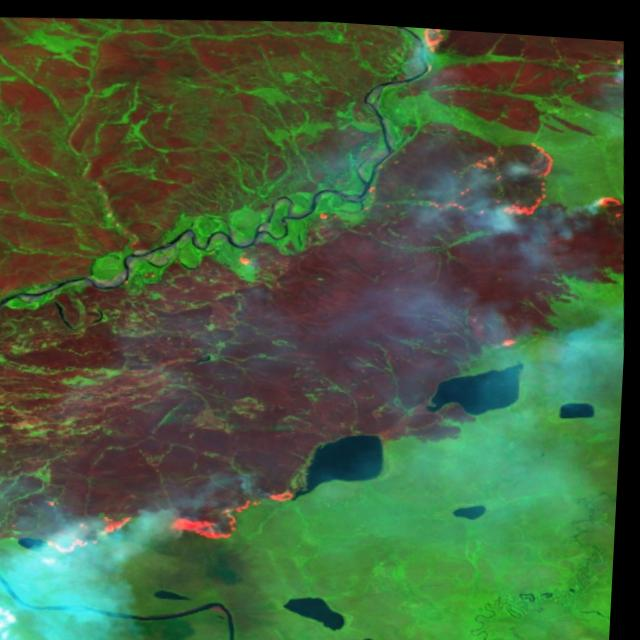fire: (26, 465, 320, 574), (426, 123, 571, 216), (405, 21, 462, 68), (585, 176, 628, 225), (362, 170, 390, 206), (233, 239, 260, 264), (314, 197, 342, 220), (497, 325, 534, 341)
